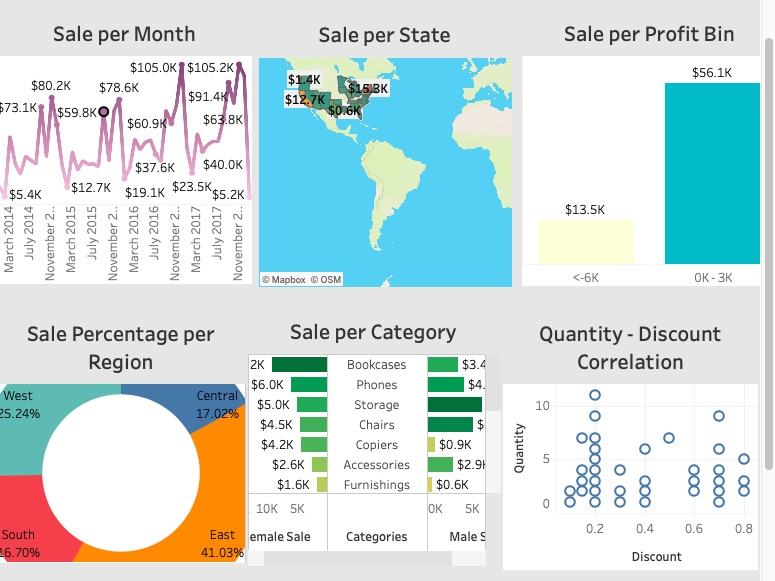

The dashboard page shown, as its layout file describes it:
{"tool":"tableau","page":{"name":"Dashboard 1","canvas":[1000,1000],"units":"permille","ordinal":0},"visuals":[{"type":"worksheet","title":"Total Sale","mark":"Automatic","box":[754.1,49,195.1,113.7]},{"type":"text","box":[11.2,50.1,282.8,80.3]},{"type":"filter","title":"Sale per Category","param":"[federated.0m2frb61o2lvr310oc83c08itm1o].[none:Sub-Category:nk]","box":[407.4,65.7,245.2,98]},{"type":"worksheet","title":"Sale per Month","mark":"Automatic","rows":["Sales"],"cols":["Ship Date"],"box":[4,198.1,332.9,382.7]},{"type":"worksheet","title":"Sale per State","mark":"Automatic","box":[344.8,200.2,332.9,385.8]},{"type":"worksheet","title":"Sale per Category","mark":"Automatic","rows":["Sub-Category"],"cols":["Calculation_3663256100683972609","Calculation_3663256100682596352","Calculation_3663256100684541955"],"box":[331.6,618.4,330.9,358.7]},{"type":"worksheet","title":"Sale Percentage per Region","mark":"Pie","rows":["Calculation_3663256100682596352","Calculation_3663256100682596352"],"box":[3.3,620.4,326.3,353.5]},{"type":"worksheet","title":"Quantity - Discount Correlation","mark":"Automatic","rows":["Quantity"],"cols":["Discount"],"box":[664.5,620.4,332.9,362.9]}]}

Visuals, with their boxes on the dashboard's canvas, which has no fixed pixel size, in thousandths of its width and height (x1, y1, x2, y2). These are canvas units, not pixel positions in the 775x581 screenshot, which may show the page scaled, cropped or inside an application window:
"Total Sale" worksheet: 754:49:949:163
text: 11:50:294:130
"Sale per Category" filter: 407:66:653:164
"Sale per Month" worksheet: 4:198:337:581
"Sale per State" worksheet: 345:200:678:586
"Sale per Category" worksheet: 332:618:662:977
"Sale Percentage per Region" worksheet (Pie marks): 3:620:330:974
"Quantity - Discount Correlation" worksheet: 664:620:997:983
